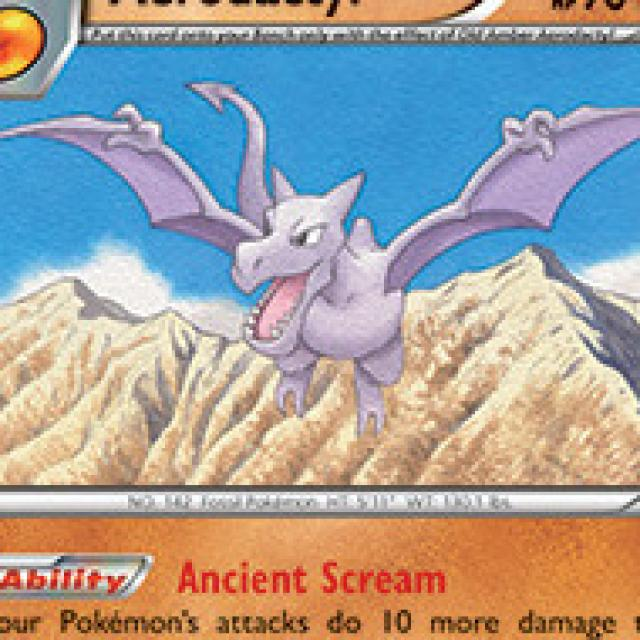Aerodactyl: (18, 96, 538, 403)
